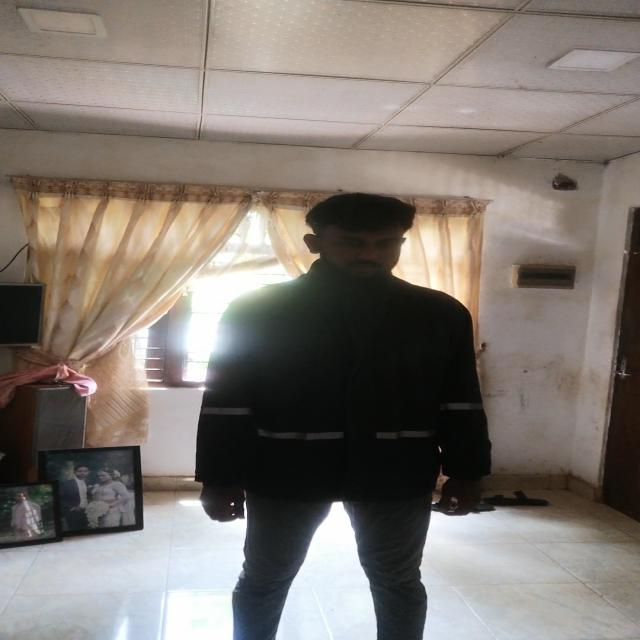Jacket_Wearer: (202, 260, 496, 522)
Person: (200, 185, 499, 640)
